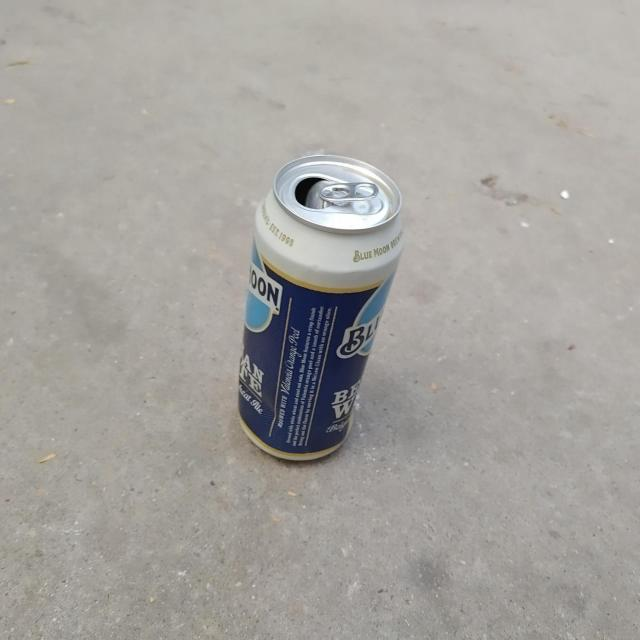can: (239, 155, 404, 461)
